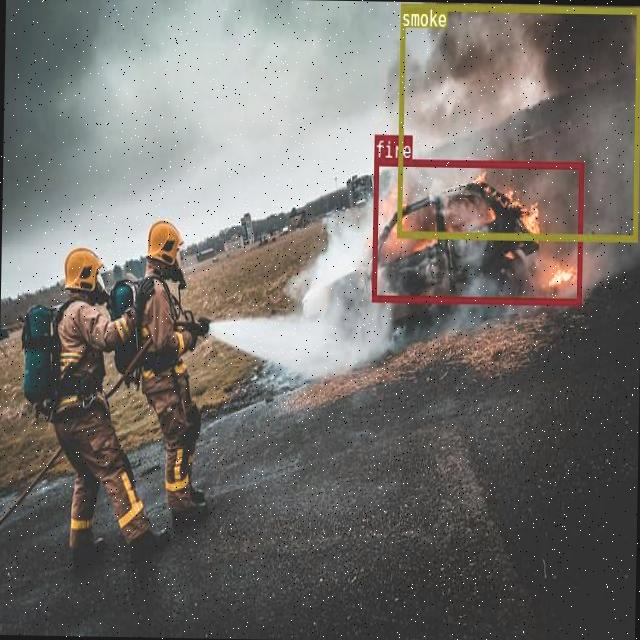fire: (371, 156, 582, 304)
smoke: (395, 1, 640, 240)
